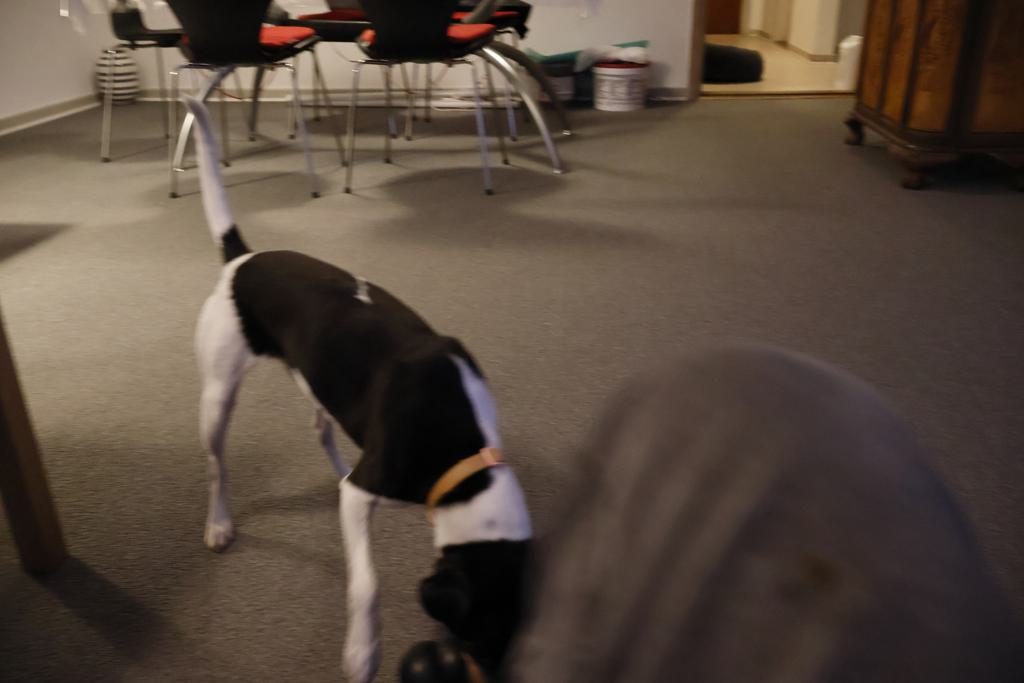Dog: (166, 83, 598, 683)
Humanoid: (465, 322, 1024, 683)
